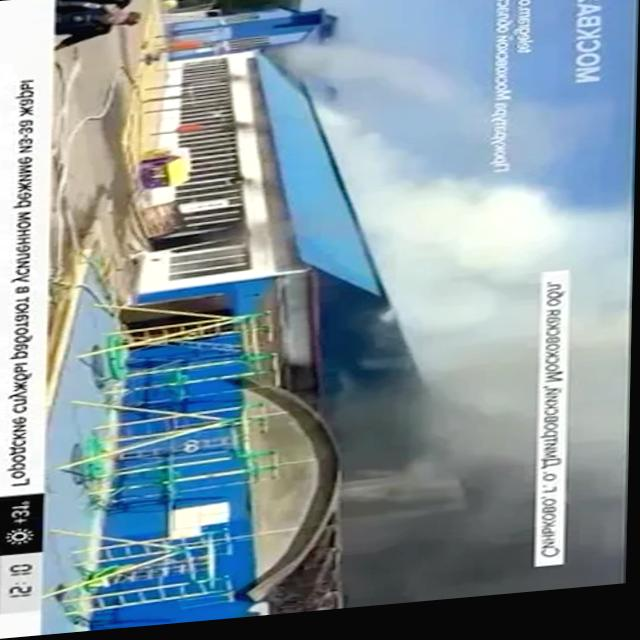no_helmet: (356, 185, 633, 614)
